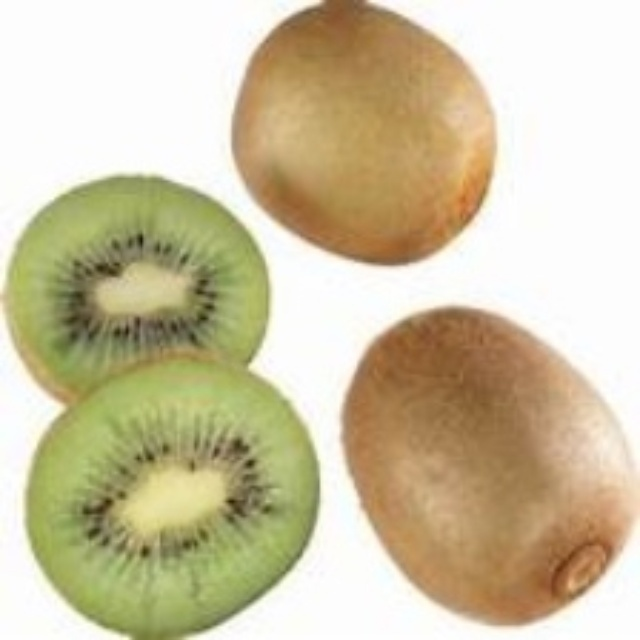kiwi: (346, 305, 639, 624), (8, 365, 311, 633), (235, 4, 494, 268), (12, 177, 270, 403)
